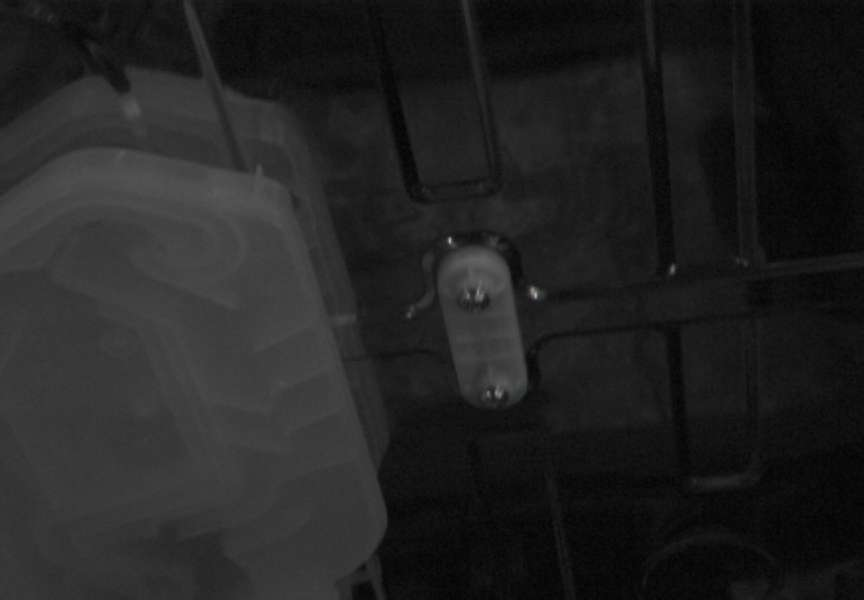screw: (457, 285, 491, 313), (478, 385, 510, 409)
